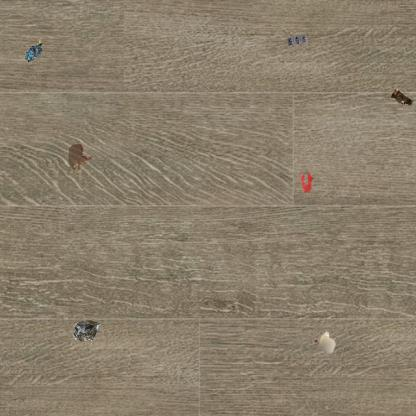dirty: (310, 328, 338, 356), (72, 318, 102, 344), (24, 35, 44, 64), (389, 87, 415, 107), (286, 33, 307, 46)
liquid: (67, 143, 93, 174), (298, 170, 314, 193)
